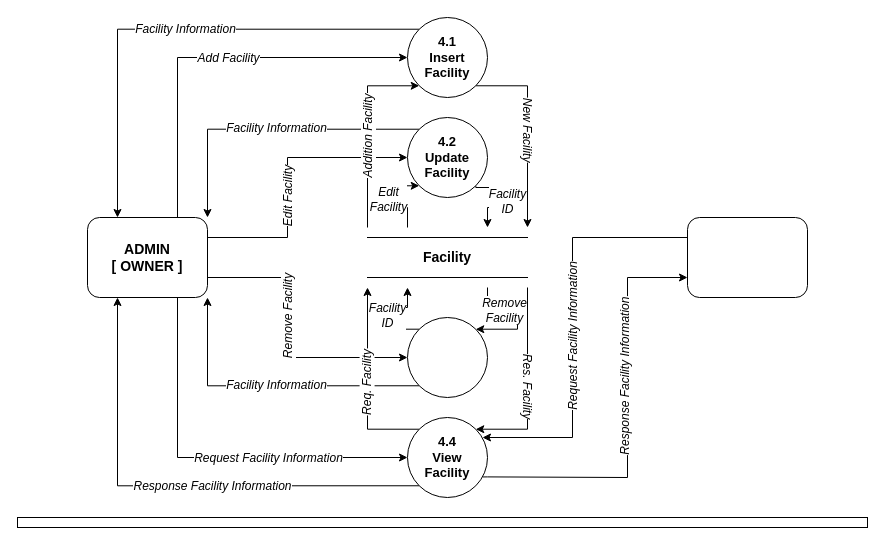
Image size: 885x545. Some labels were removed from this diagram. Each missing label, with the box of its shape:
4.3 Delete Facility: (406, 316, 488, 398)
USERS [ PASSENGER ]: (686, 216, 808, 298)
